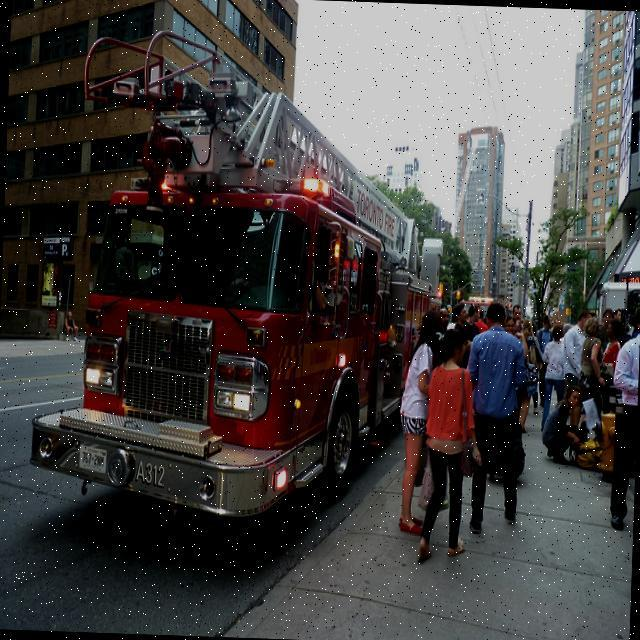fire_hydrant: (589, 408, 615, 476)
